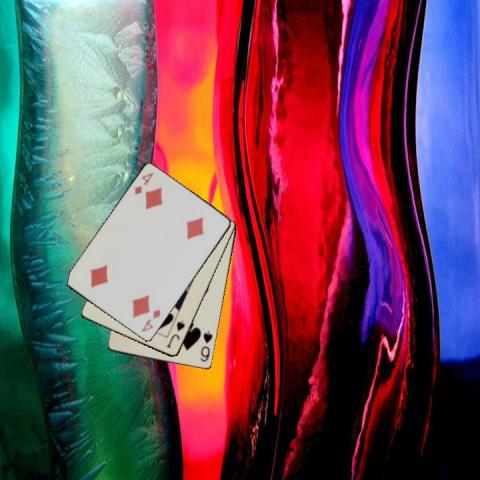4d: (138, 306, 162, 334), (132, 169, 156, 197)
6s: (197, 329, 214, 363)
Js: (163, 318, 187, 350)
